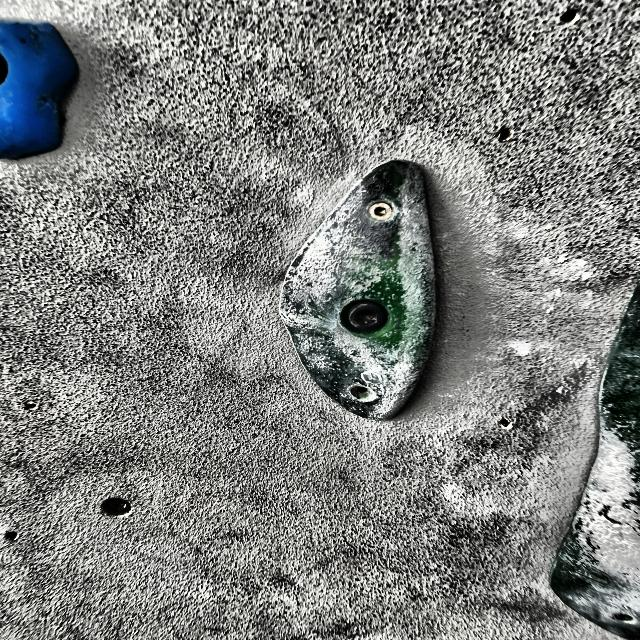hold: (271, 152, 492, 428)
